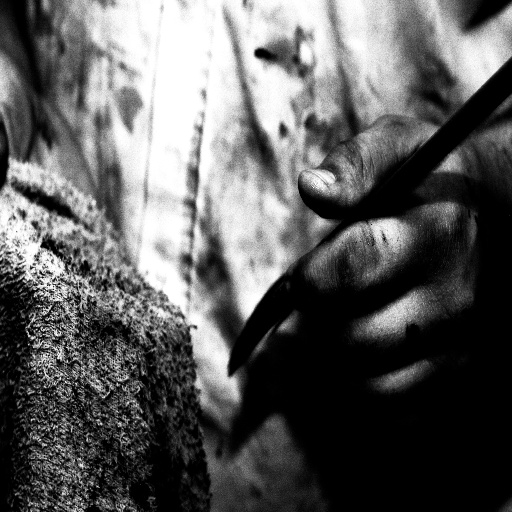hand: (218, 73, 507, 413)
